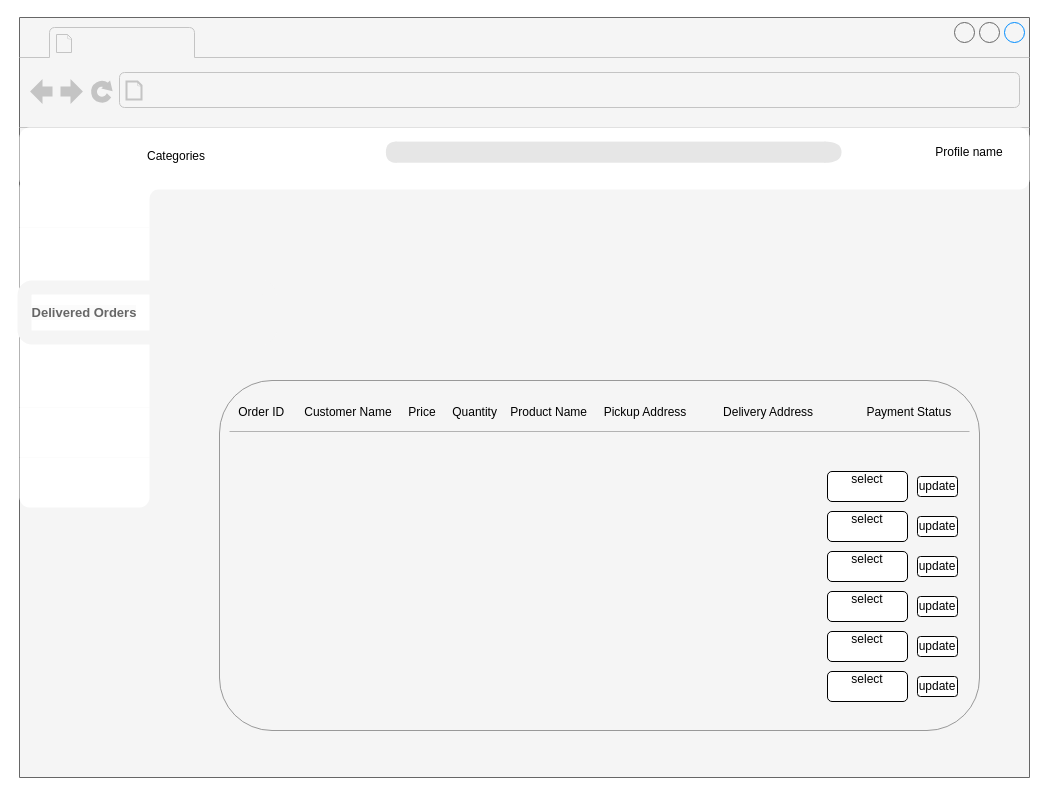
Some shapes in this 1047 by 795 pixel diagram are drawn without their labels. The box of each missing label's shape, as (x1, y1, x2, y2) in pixels:
Delivered: (78, 28, 210, 56)
http://localhost/staff/deliveredorders.php: (148, 76, 400, 104)
Logout: (19, 457, 149, 507)
Manage Profile: (19, 177, 149, 227)
Orders: (19, 227, 149, 287)
Picked-Up Orders: (19, 337, 149, 407)
Spincycle: (53, 132, 160, 200)
